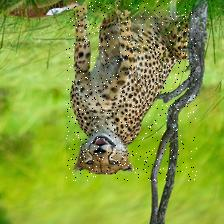Cheetha: (67, 0, 198, 180)
